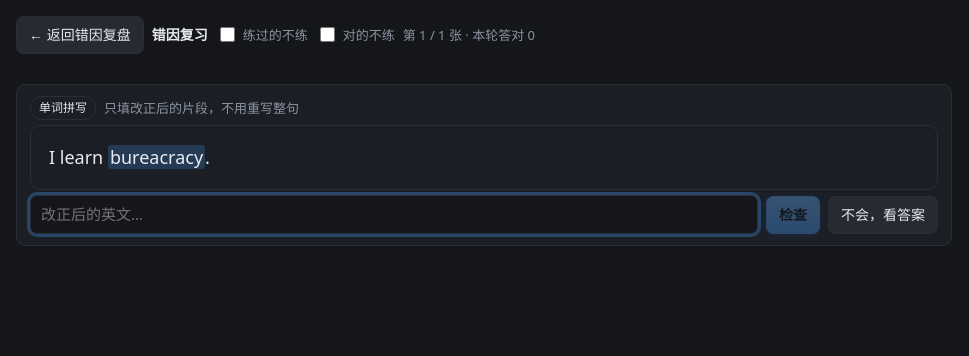
Test case: GoldenErrorReview › 答对显示答案并记录 correct=true
This screenshot has width=969, height=356.
Check: the text "bureacracy" is shown, box [108,145,205,169]
Type "bureaucracy" into the field named "错因答案". click: [394, 215]
box: [30,195,758,234]
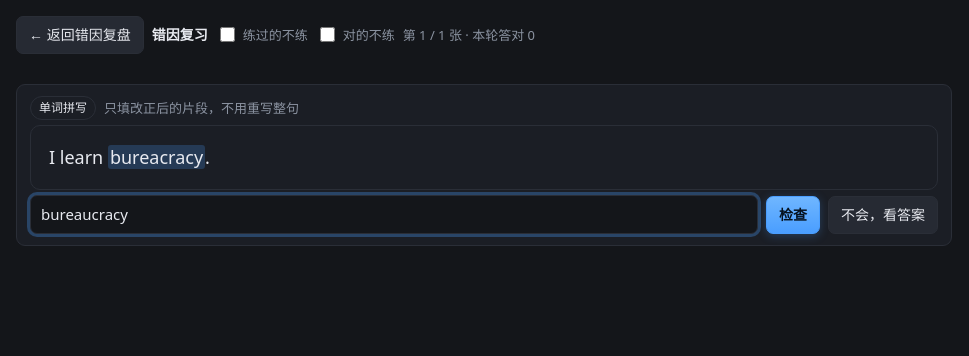
Click the button "检查". click: [793, 215]
box: [766,196,820,234]
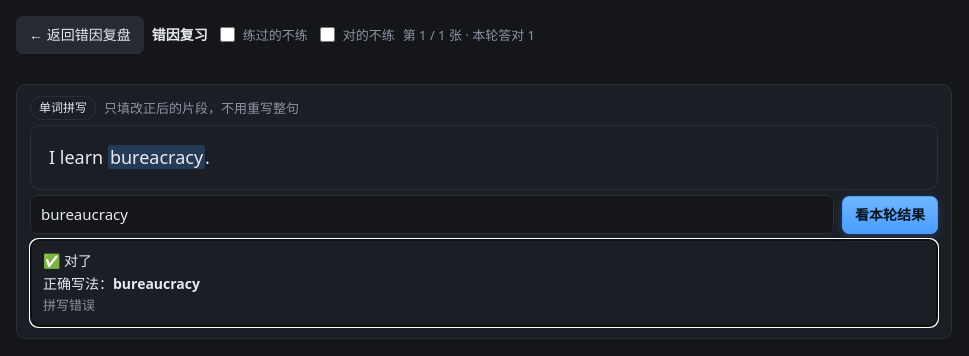
Check: the text "✅ 对了 正确写法：bureaucracy 拼写错误" is shown, box [30,239,938,327]
Click the button "看本轮结果". click: [890, 215]
box: [842,196,938,234]
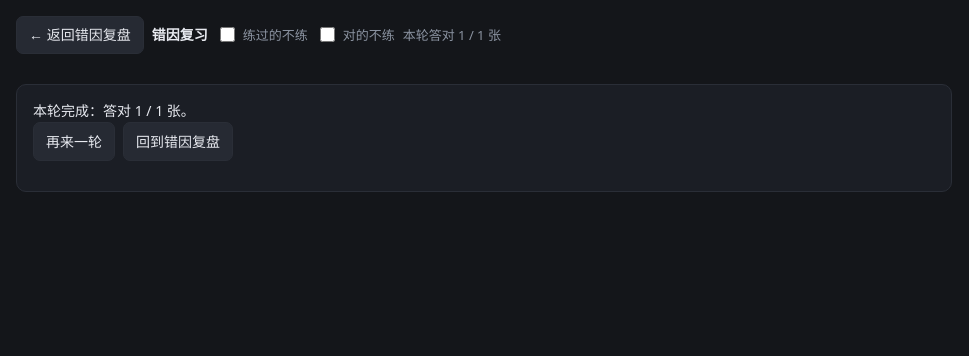
Check: the text "本轮完成：答对 1 / 1 张。 再来一轮 回到错因复盘" is shown, box [16,84,952,192]
